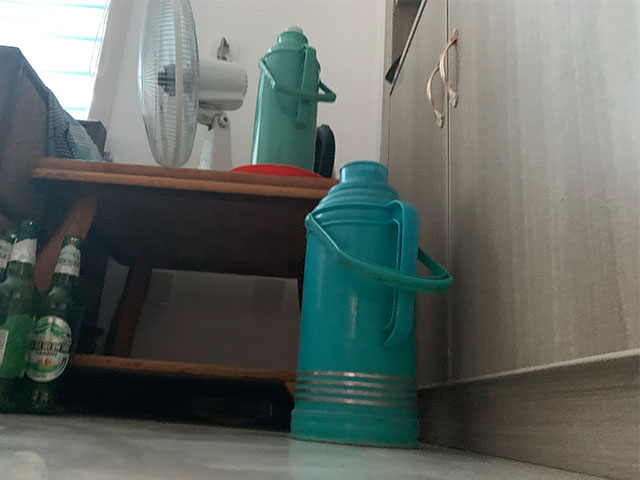cabinet: (379, 1, 640, 480)
table: (28, 156, 341, 399)
